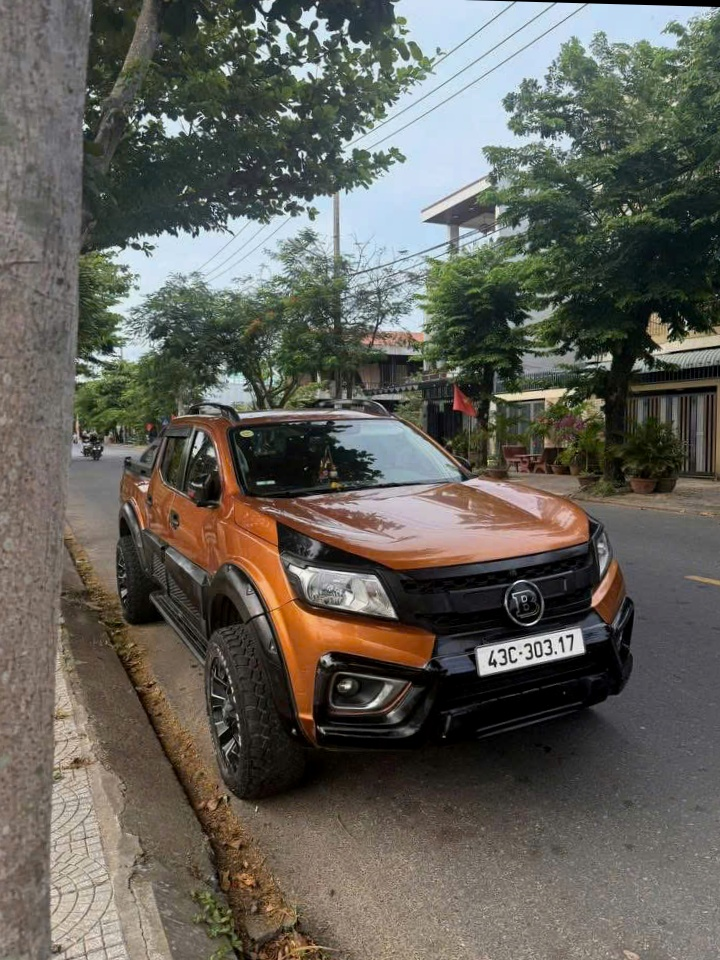Bien-so: (468, 654, 584, 717)
